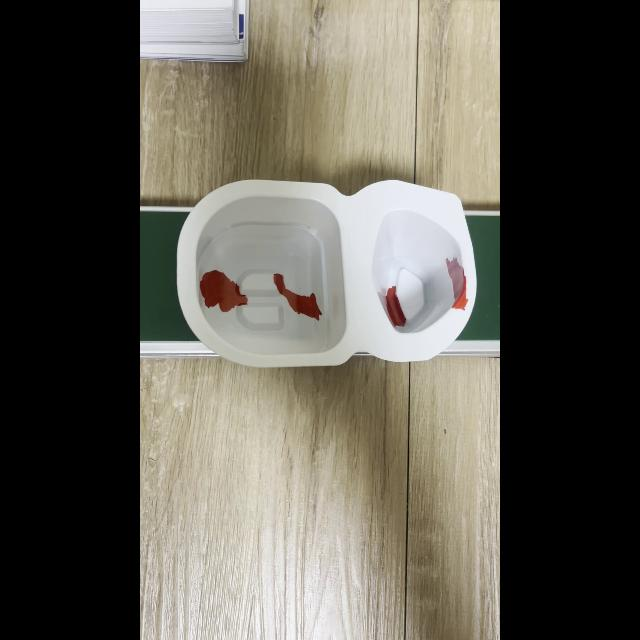dirty: (178, 178, 474, 364)
